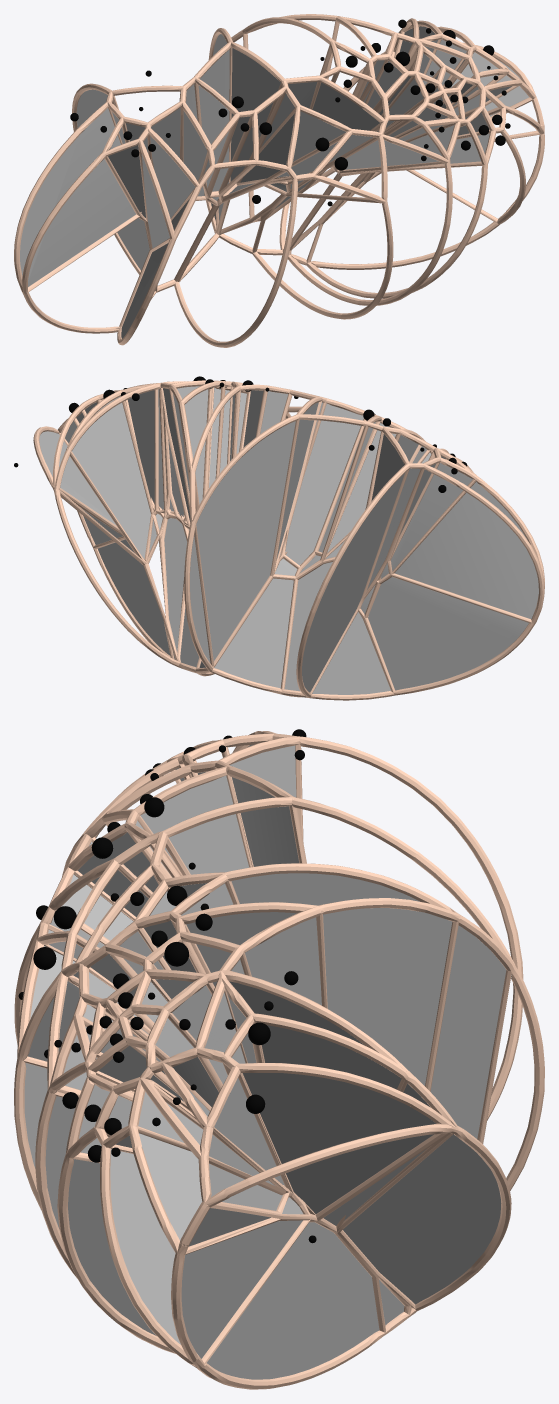
The model's file is abstract01.glb.
3 views of the same model, one above another, from view 1: azimuth 30°, elevation 25°; view 2: azimuth 150°, elevation 25°; view 3: azimuth 270°, elevation 25° (orthographic). The views are drawn at different scales.
Visible parts, largest first — view 1: sphere1; view 2: sphere1; view 3: sphere1.
Part boxes in pixels (x1=…): sphere1: x1=14, y1=14, x2=544, y2=347; sphere1: x1=14, y1=376, x2=544, y2=700; sphere1: x1=14, y1=729, x2=544, y2=1389.
Bounding box in the file's own units: 3.93 × 2.02 × 2.02.
